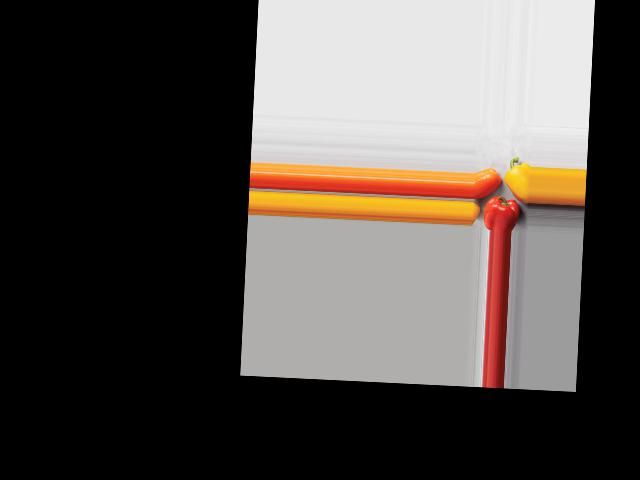bell_pepper: (482, 194, 522, 231)
